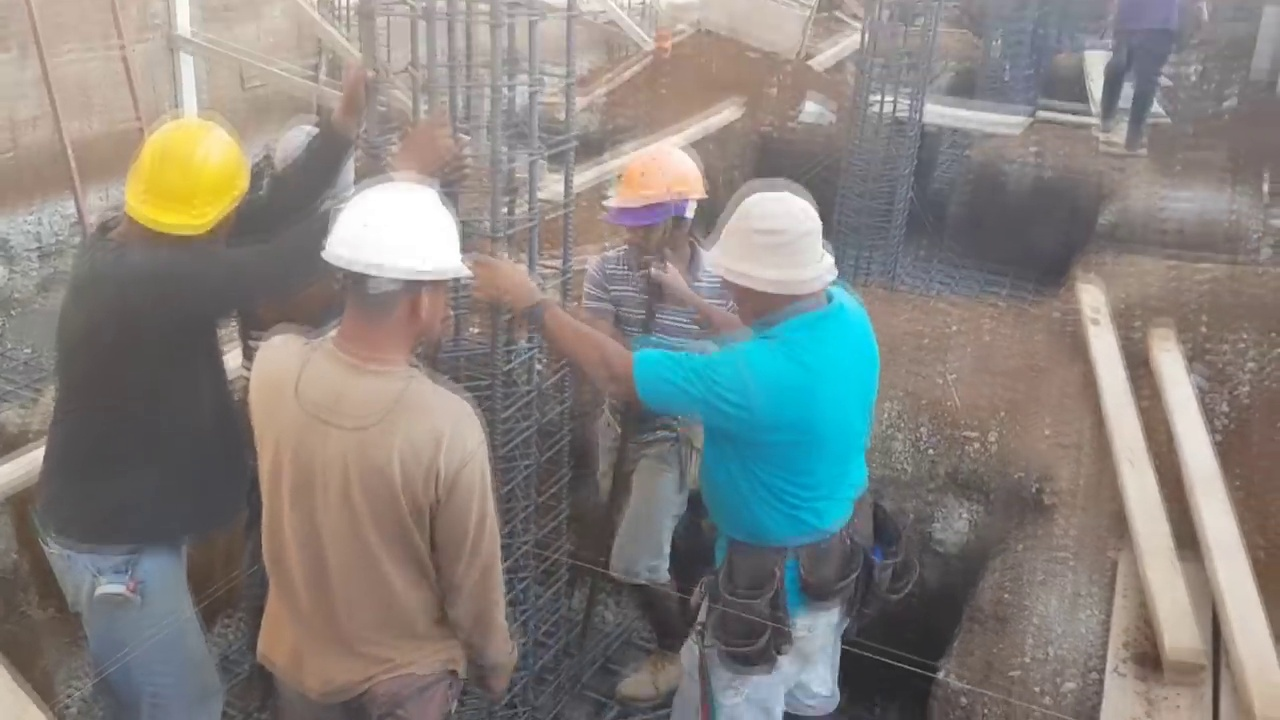helmet: (114, 109, 242, 240), (316, 172, 457, 288), (603, 145, 710, 218)
helmet-off: (691, 182, 835, 337)
helmet-on: (314, 171, 469, 378), (93, 111, 246, 261), (592, 142, 711, 274)
person: (40, 50, 369, 720), (475, 179, 878, 720), (243, 166, 517, 720), (568, 147, 724, 705), (1093, 0, 1218, 155)
